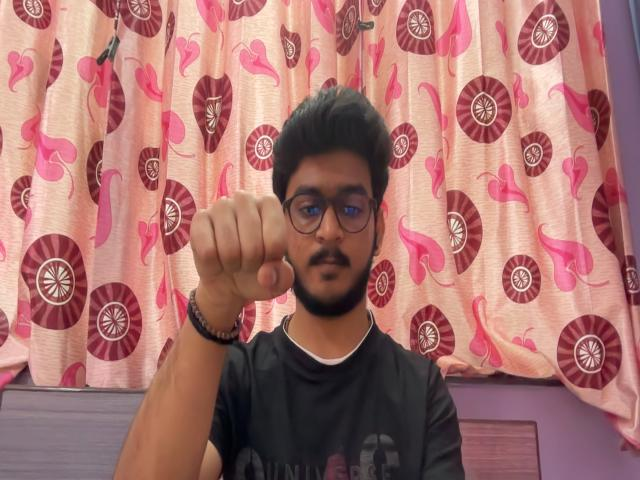Yes: (184, 182, 300, 312)
